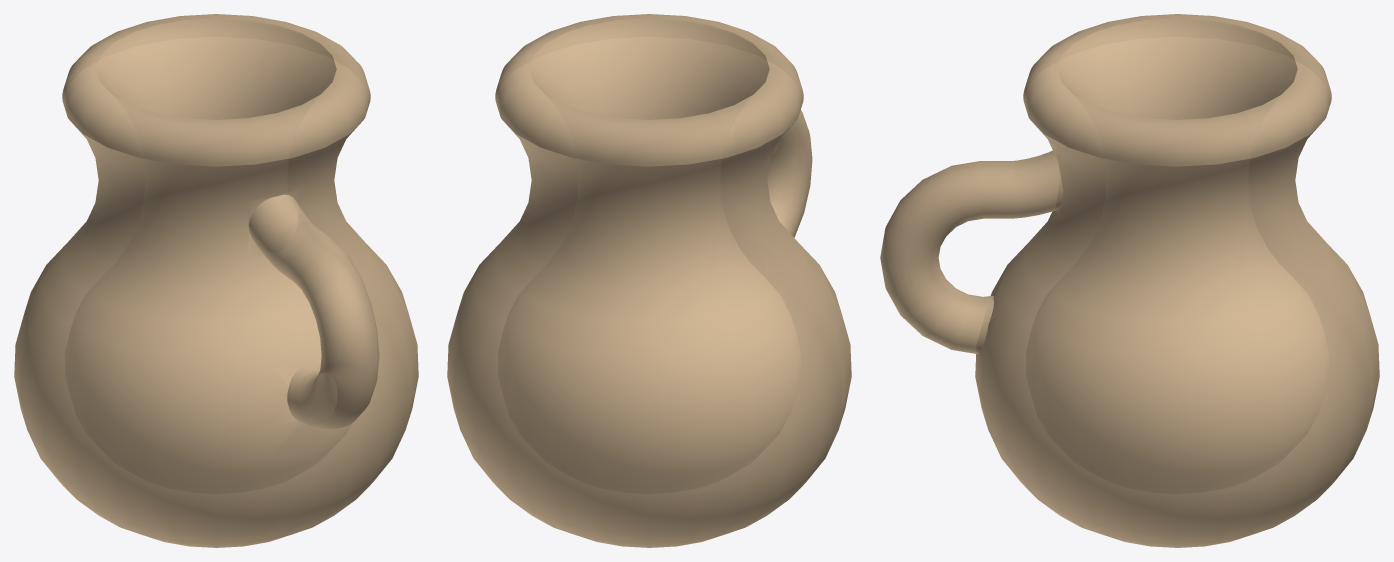
3 renders of one model, left to right at view 1: azimuth 30°, elevation 25°; view 2: azimuth 150°, elevation 25°; view 3: azimuth 270°, elevation 25°, orthographic.
Parts seen in each view (by area): view 1: mesh1_mesh1-geometry; view 2: mesh1_mesh1-geometry; view 3: mesh1_mesh1-geometry.
Boxes of the visible parts, left/top/right/bottom form: mesh1_mesh1-geometry: left=14, top=14, right=418, bottom=547; mesh1_mesh1-geometry: left=447, top=14, right=851, bottom=547; mesh1_mesh1-geometry: left=880, top=14, right=1379, bottom=547.
Size of the model in its own units: 0.5002 by 0.6067 by 0.6178.
